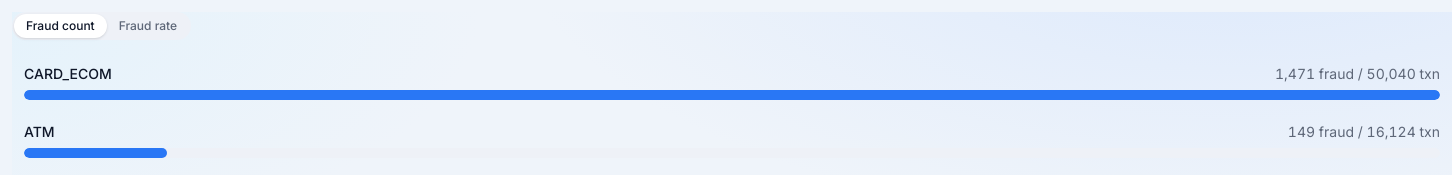
Test: switches the bars from fraud count to fraud rate
This screenshot has width=1452, height=175.
Click the button "Fraud rate": x=148, y=26 [107,14,189,38]
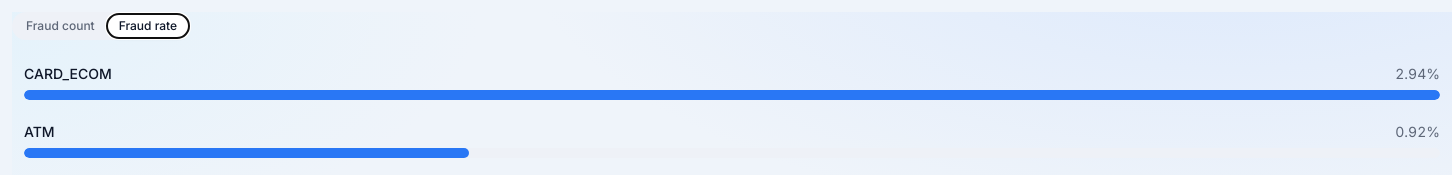
expect the text "2.94%" is shown: met, box [1395,65,1440,82]
expect the text "0.92%" is shown: met, box [1395,123,1440,140]
